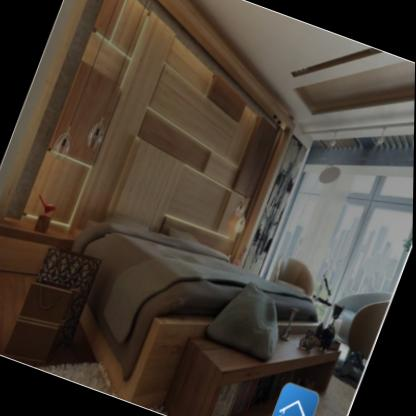Bed: (49, 204, 372, 416)
Wall Panel: (0, 0, 360, 305)
Window: (250, 85, 415, 333)
